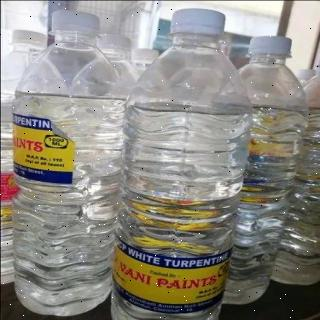Plastic-bottle: (104, 6, 258, 320), (11, 7, 133, 320), (218, 32, 312, 310), (1, 29, 51, 309)
